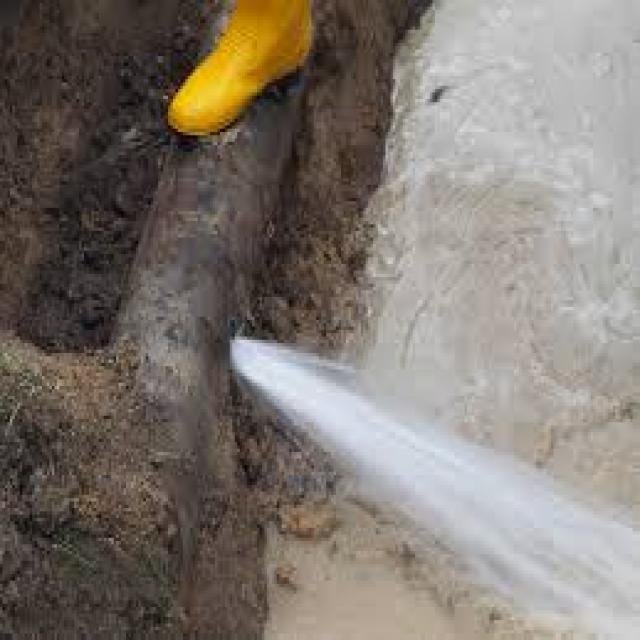pipe burst: (225, 334, 640, 640)
water accumulation: (264, 0, 640, 640)
